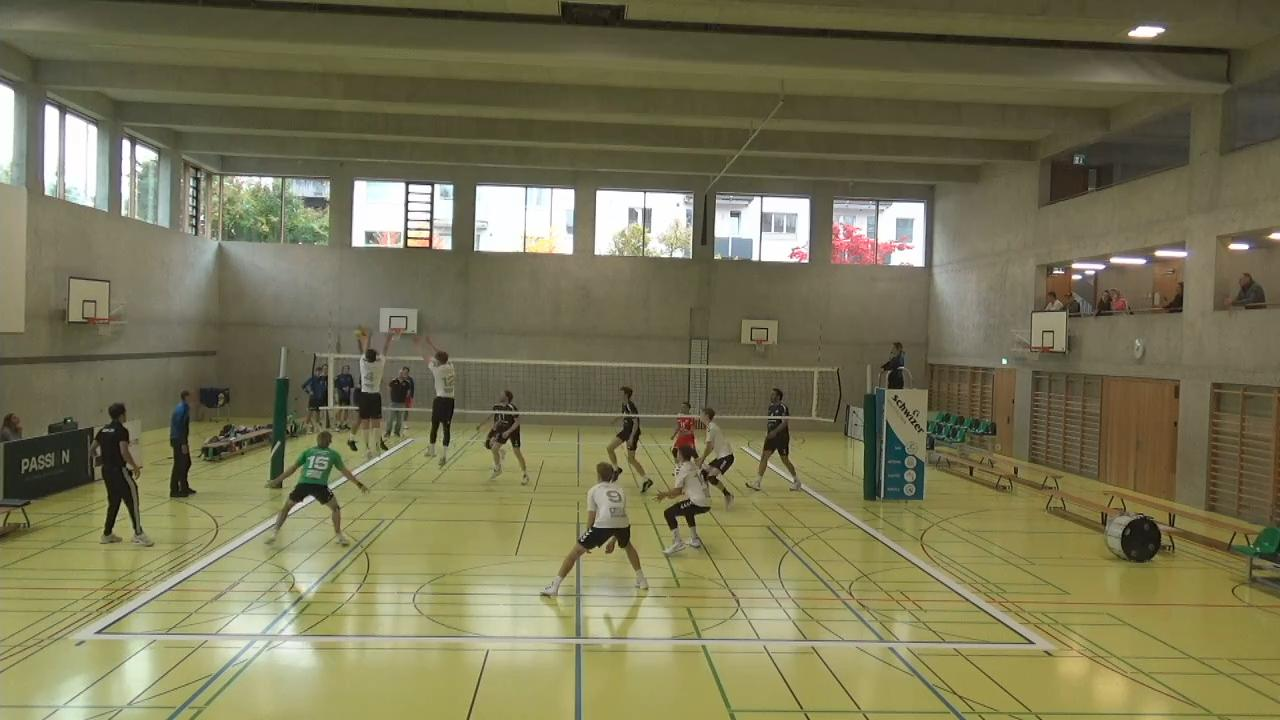Attack: (341, 378, 361, 453)
Block: (343, 323, 390, 465), (414, 321, 459, 467)
Player: (541, 461, 650, 597), (269, 425, 369, 547), (649, 443, 712, 556), (486, 389, 536, 483), (751, 397, 800, 491), (697, 406, 740, 506), (608, 386, 644, 482), (667, 404, 701, 480)
ball: (352, 324, 366, 340)
